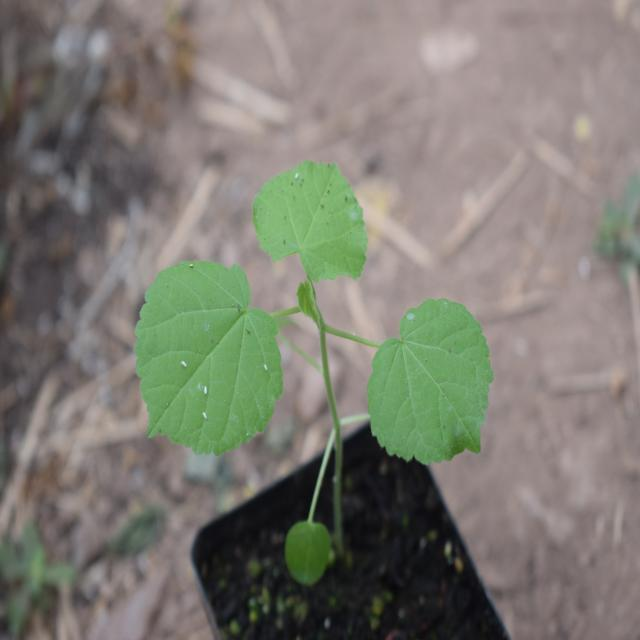abutilon theophrasti: (113, 147, 483, 495)
